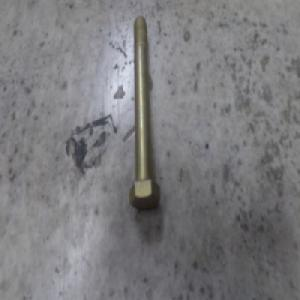Bolt: (127, 13, 160, 210)
